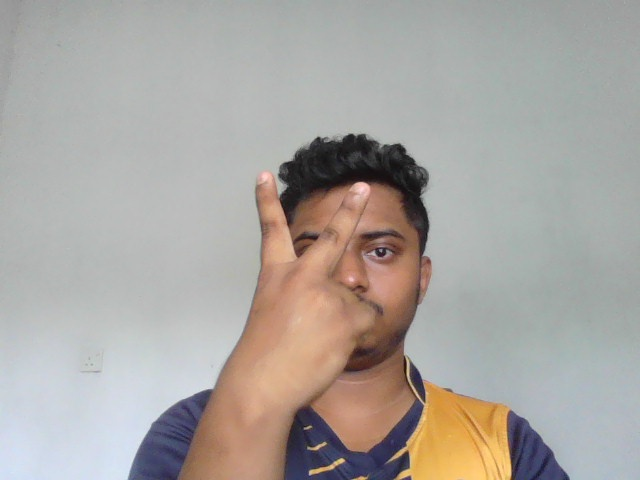See You: (240, 171, 371, 405)
